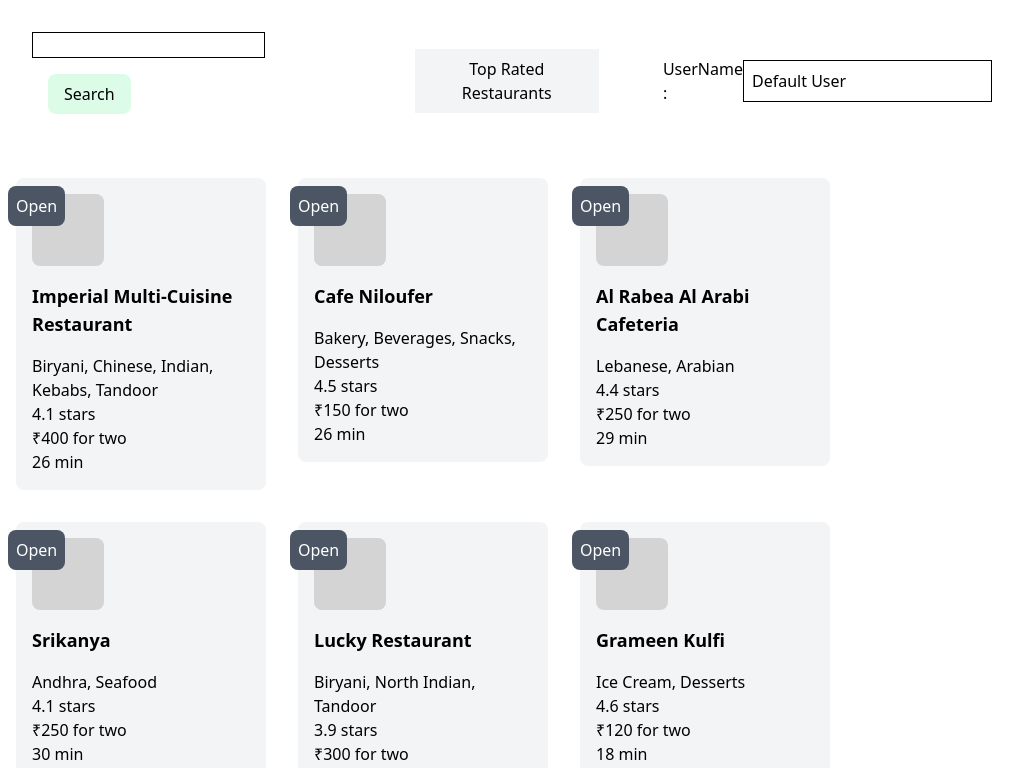
Test: Should search resList for cafe input text
Type "cafe" into the field with test id "searchInput" at [148, 45], box [32,32,265,58]
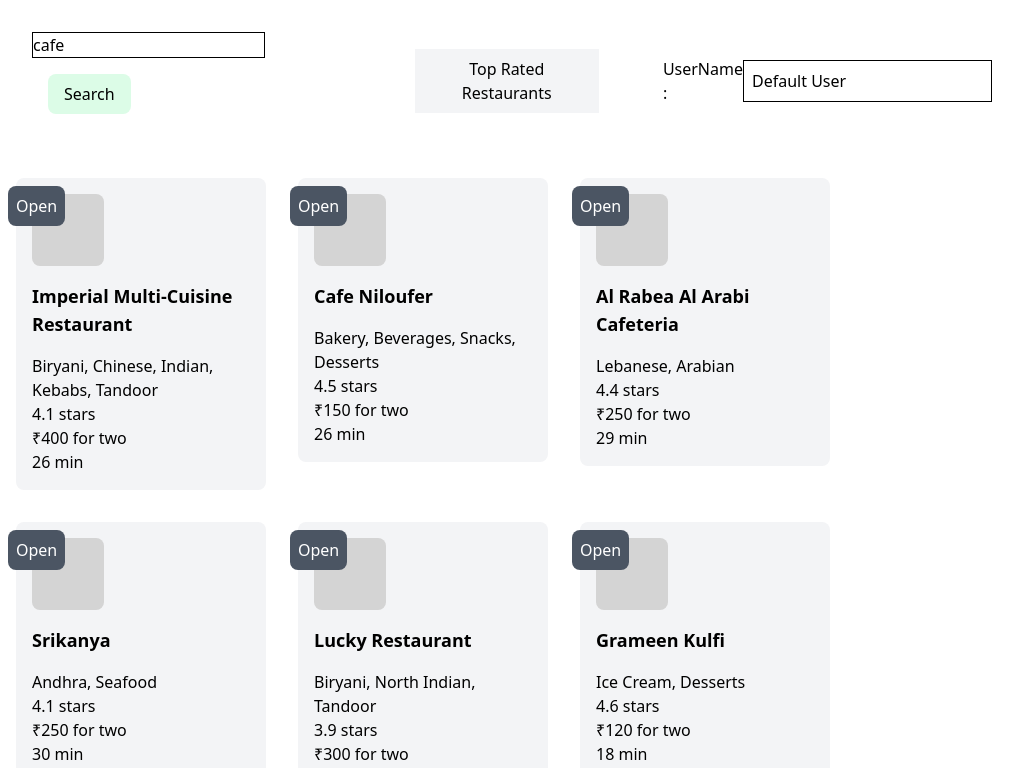
Click the button "Search" at [89, 94], box [48,74,131,114]
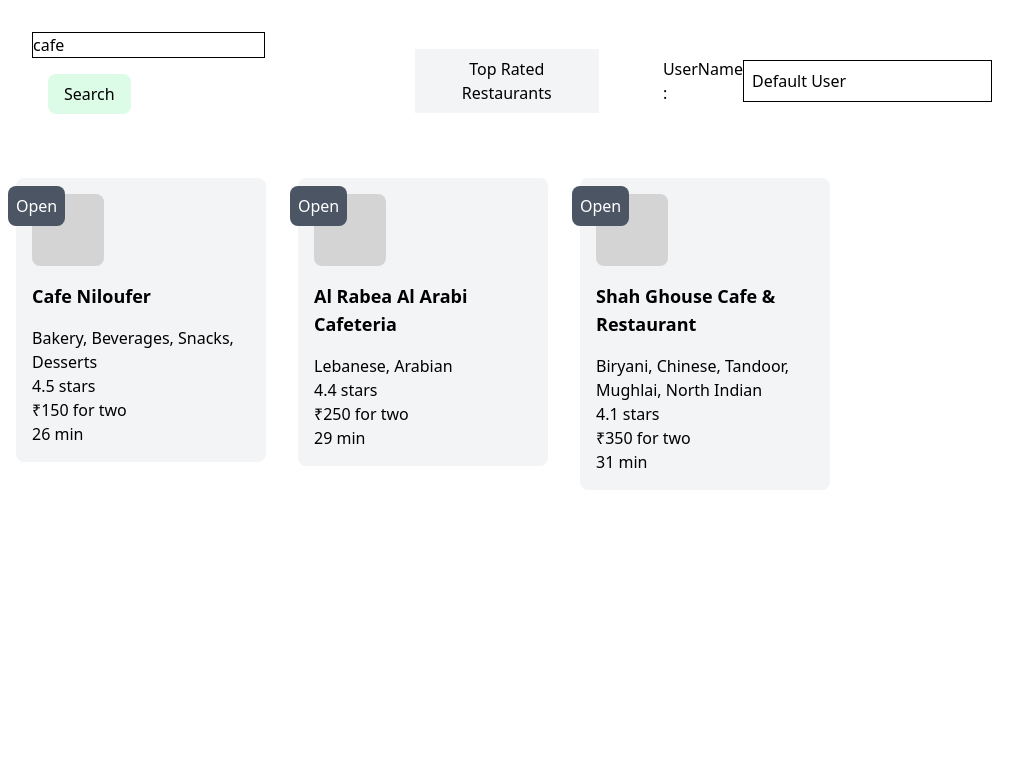
Expected: the number of elements with test id "resCard" is 3, [16,178,266,462]; [298,178,548,466]; [580,178,830,490]
